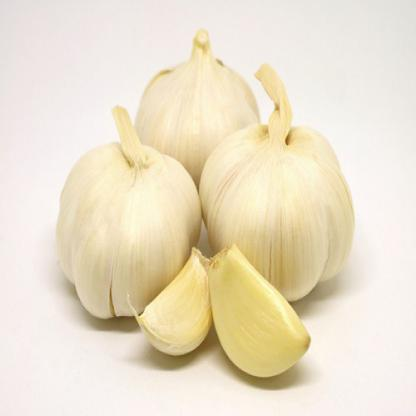garlic: (56, 119, 194, 337), (200, 122, 354, 292), (199, 236, 319, 394), (130, 45, 260, 170), (131, 244, 209, 358)
